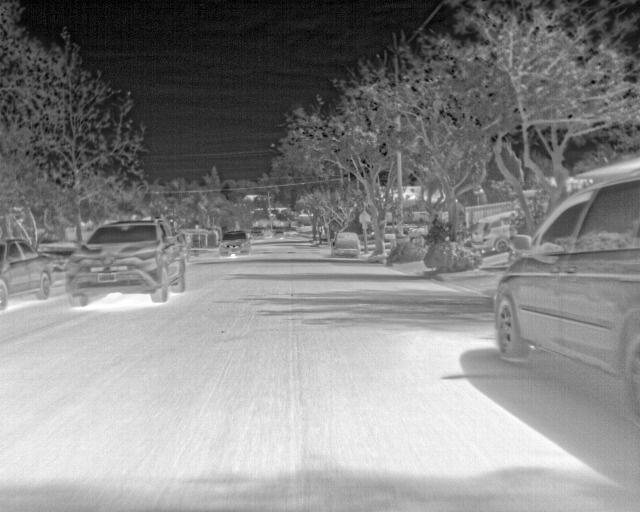car: (493, 171, 639, 408), (65, 219, 188, 306), (1, 237, 51, 306), (472, 210, 514, 254), (220, 228, 249, 256), (330, 232, 360, 259), (250, 227, 264, 240), (273, 228, 286, 240)
